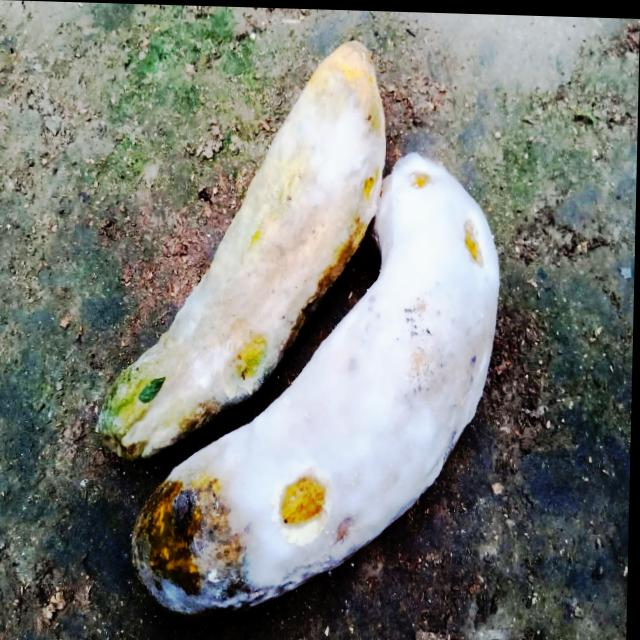Pythium-Fruit-Rot: (83, 23, 513, 622)
